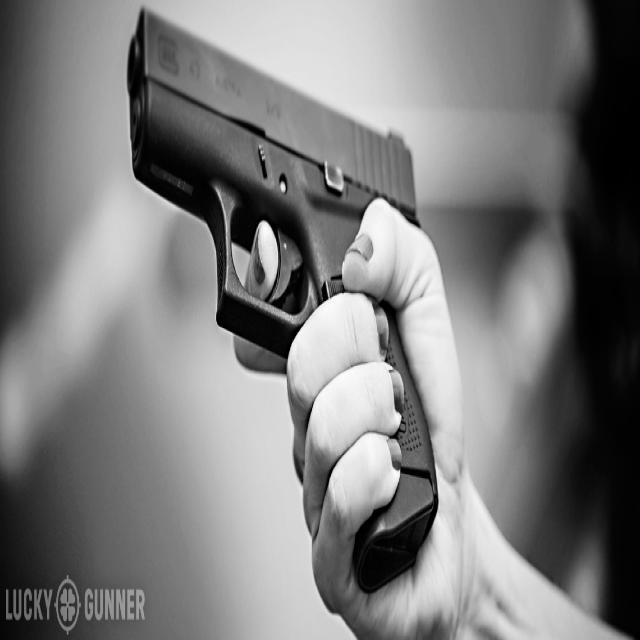HandGun: (127, 9, 421, 359), (356, 298, 437, 597)
